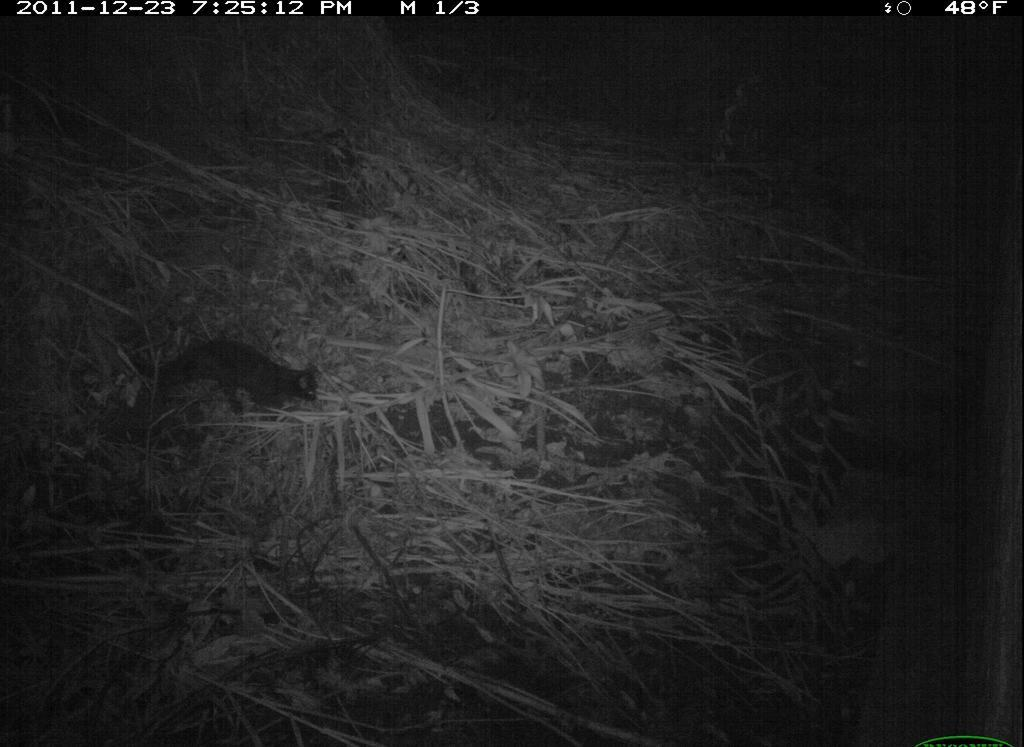cat: (144, 329, 328, 429)
